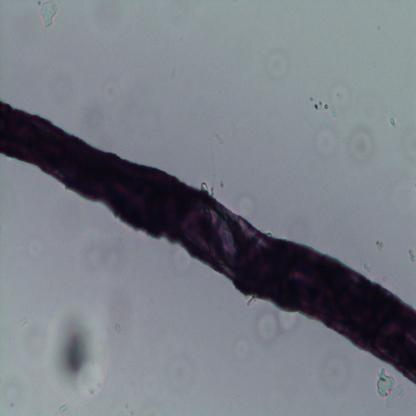Background material: (49, 304, 111, 392), (14, 314, 54, 366), (253, 307, 299, 343), (82, 238, 120, 278), (159, 350, 194, 392), (326, 352, 359, 392), (344, 123, 376, 164), (374, 366, 405, 407), (270, 50, 294, 86), (310, 97, 339, 120), (40, 2, 59, 29), (102, 74, 120, 102), (407, 246, 416, 264), (58, 401, 70, 413), (18, 314, 28, 328), (388, 115, 398, 128)
Cotton: (0, 99, 416, 384)
